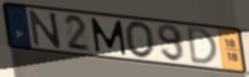2: (63, 14, 92, 54)
9: (156, 24, 186, 65)
D: (186, 26, 220, 66)
M: (89, 16, 129, 57)
N: (27, 9, 64, 50)
O: (123, 20, 157, 60)
